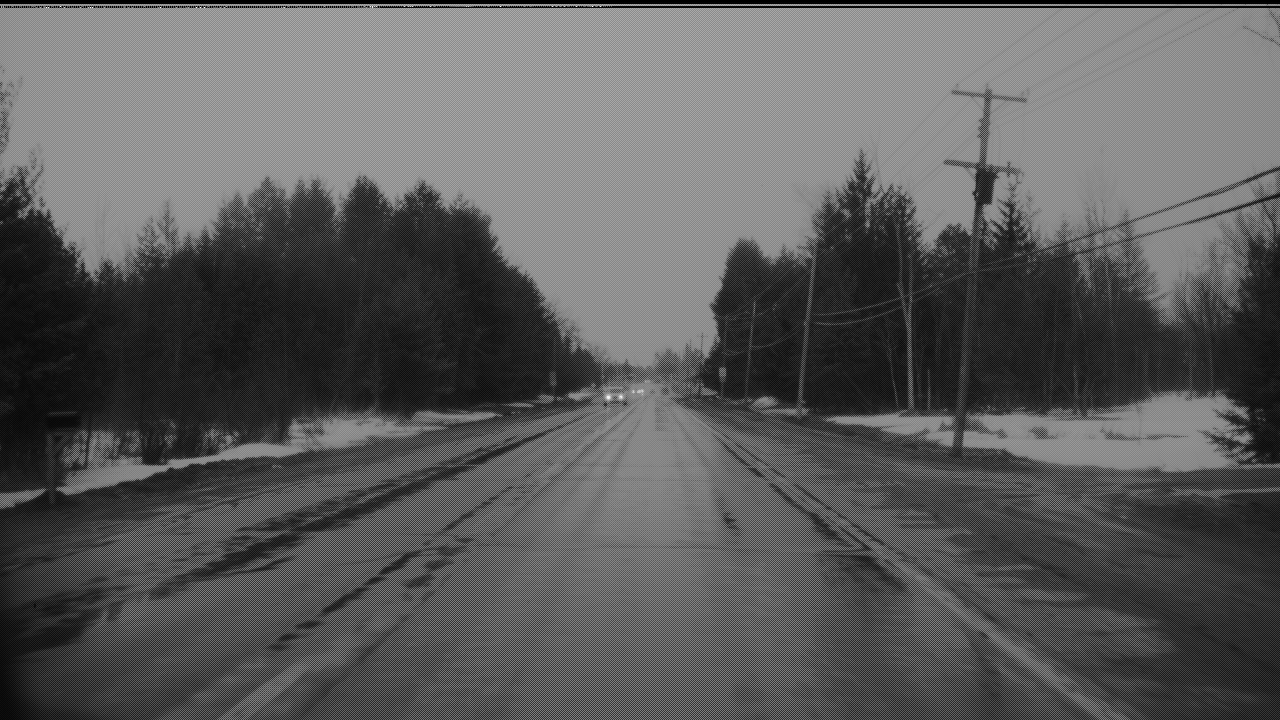pole: (950, 79, 996, 449), (796, 232, 820, 409), (744, 293, 758, 397)
